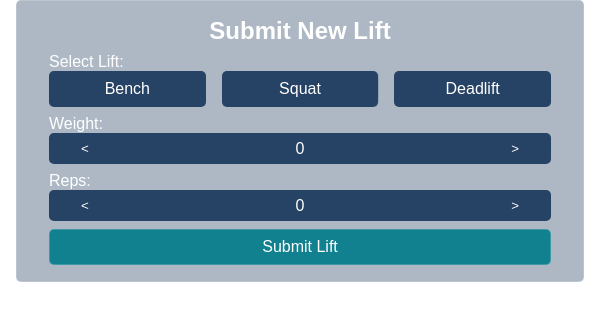
Test: SubmitLiftForm › should render error if submit button is clicked with no lift selected
Click the button "Submit Lift" at (300, 247), box [49,229,551,265]
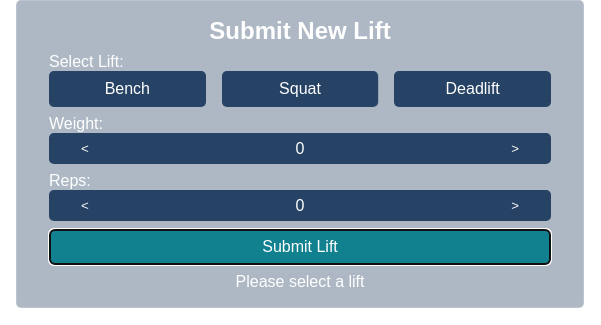
Check: the text "Please select a lift" is shown, box [236,273,364,290]
